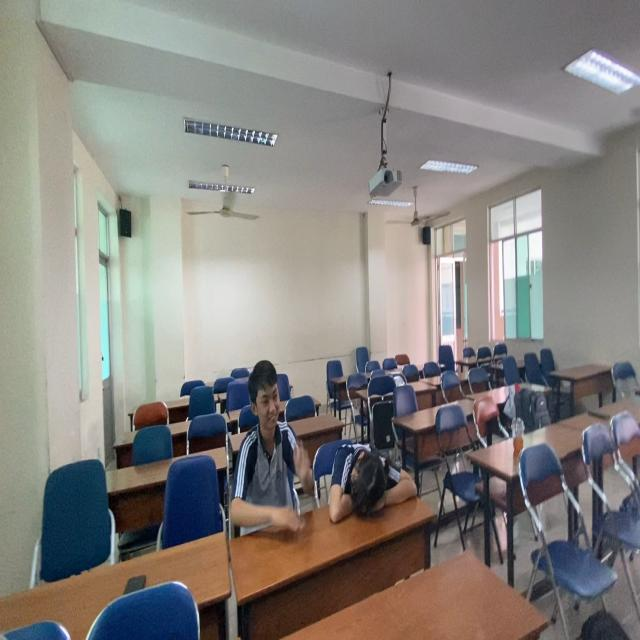sleep: (323, 433, 421, 537)
